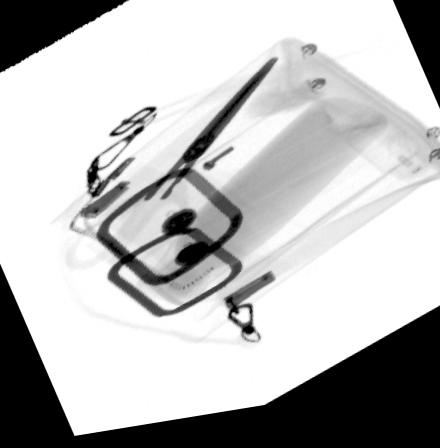Scissors: (62, 68, 281, 272)
